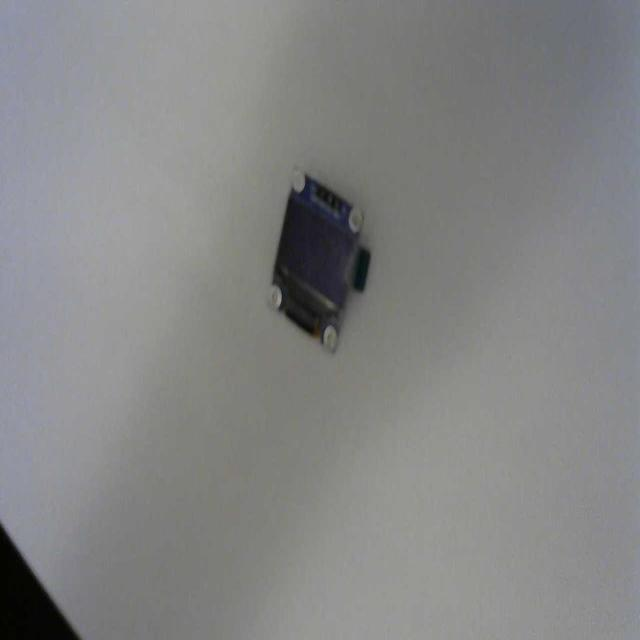oled: (265, 160, 375, 366)
